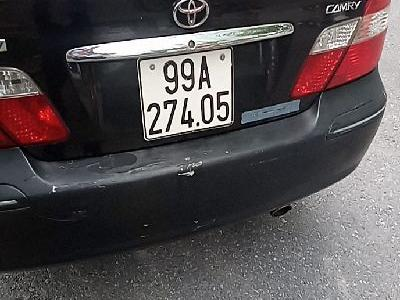car: (137, 46, 235, 142)
